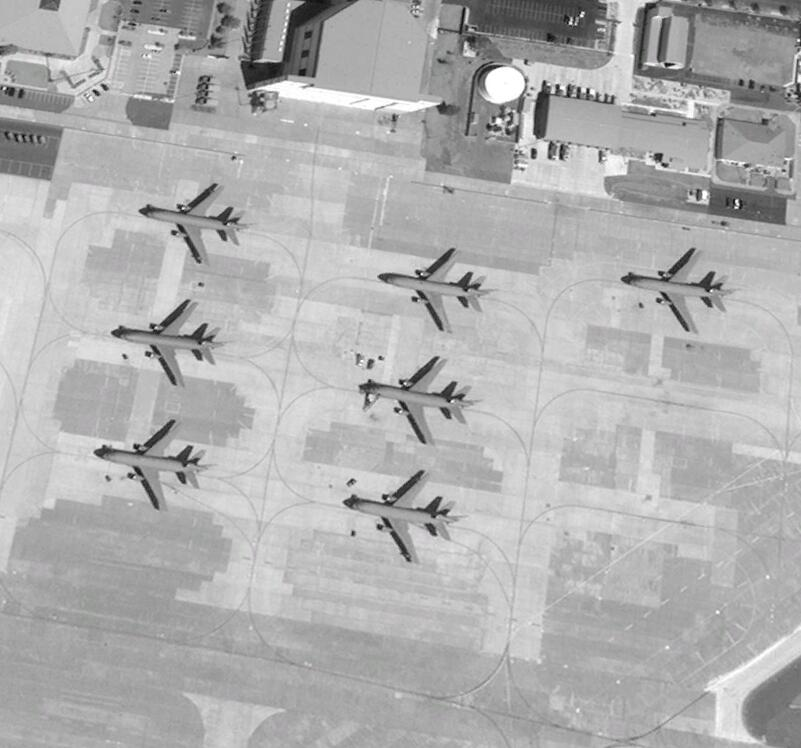A18: (359, 353, 473, 447), (341, 474, 461, 562), (623, 246, 732, 337), (95, 421, 205, 510), (115, 298, 219, 387), (380, 246, 487, 332), (138, 185, 246, 264)
